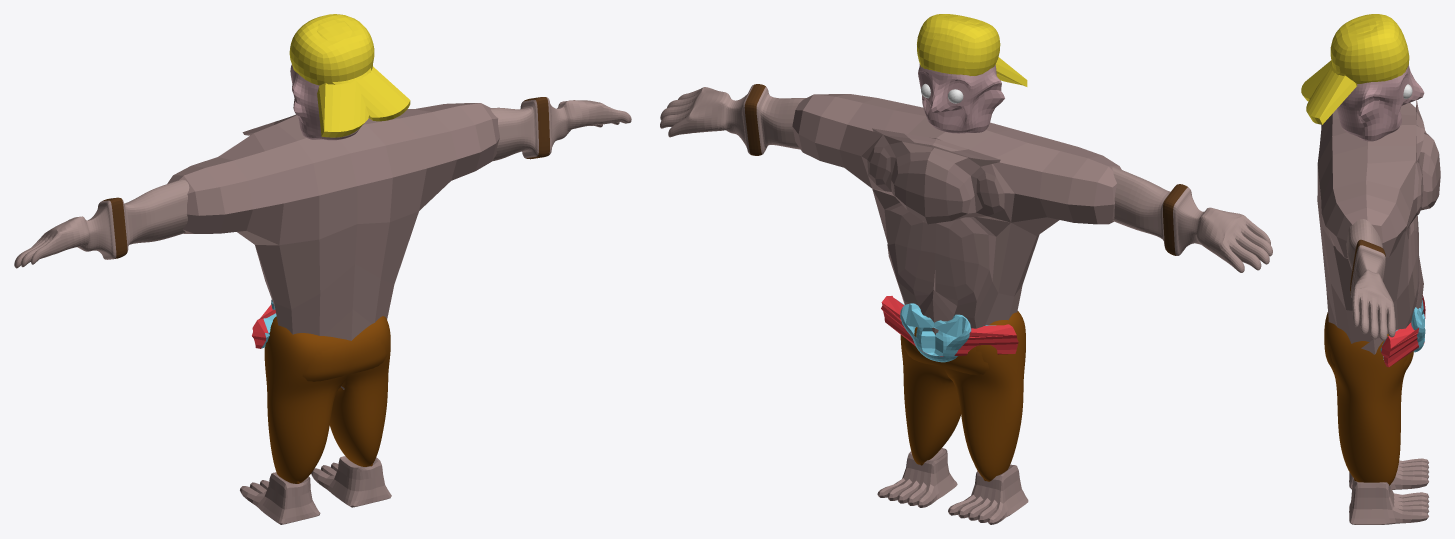
The model's file is barbarianezra.fbx.
3 views of the same model, side by side, from view 1: azimuth 30°, elevation 25°; view 2: azimuth 150°, elevation 25°; view 3: azimuth 270°, elevation 25° (orthographic).
Parts seen in each view (by area): view 1: Cube.005, Cube.006, Cube.008, Cube.003, Cube, Sphere; view 2: Cube.005, Cube.008, Cube.006, Cube, Cube.003, Cube.004, Sphere; view 3: Cube.005, Cube.006, Cube.003, Cube.008, Cube, Sphere, Cube.004.
Part boxes in pixels (x1,y1,x2,y2): Cube.005: [167, 103, 499, 389]; Cube.006: [264, 316, 390, 483]; Cube.008: [14, 97, 631, 268]; Cube.003: [289, 14, 410, 137]; Cube: [240, 456, 391, 524]; Sphere: [290, 64, 359, 140]; Cube.005: [792, 94, 1121, 335]; Cube.008: [660, 84, 1272, 272]; Cube.006: [900, 311, 1025, 481]; Cube: [877, 448, 1028, 524]; Cube.003: [917, 14, 1027, 86]; Cube.004: [881, 296, 1018, 362]; Sphere: [918, 64, 1004, 133]; Cube.005: [1317, 100, 1440, 354]; Cube.006: [1324, 312, 1413, 485]; Cube.003: [1301, 14, 1409, 124]; Cube.008: [1346, 219, 1395, 340]; Cube: [1349, 458, 1429, 524]; Sphere: [1336, 64, 1424, 141]; Cube.004: [1380, 295, 1425, 367].
Size of the model in its own units: 991 by 745 by 196.
